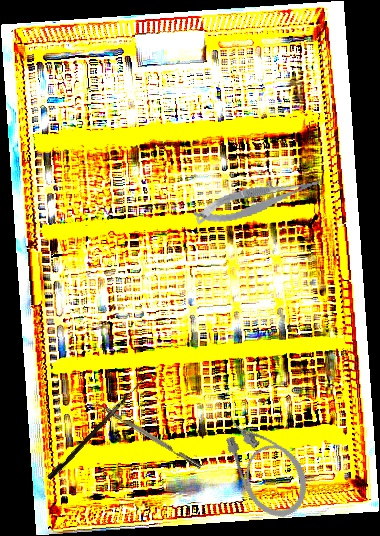Cannula: (212, 399, 319, 527)
Chopper: (86, 396, 203, 475)
Hook Surgical: (46, 369, 150, 483)
Micro Scissor: (191, 173, 326, 229)
